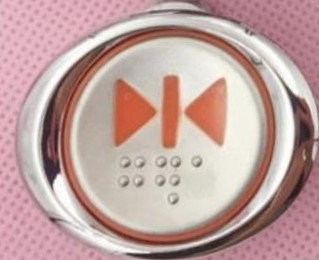Braille: (156, 156, 181, 207), (120, 156, 145, 206), (192, 156, 218, 203)
